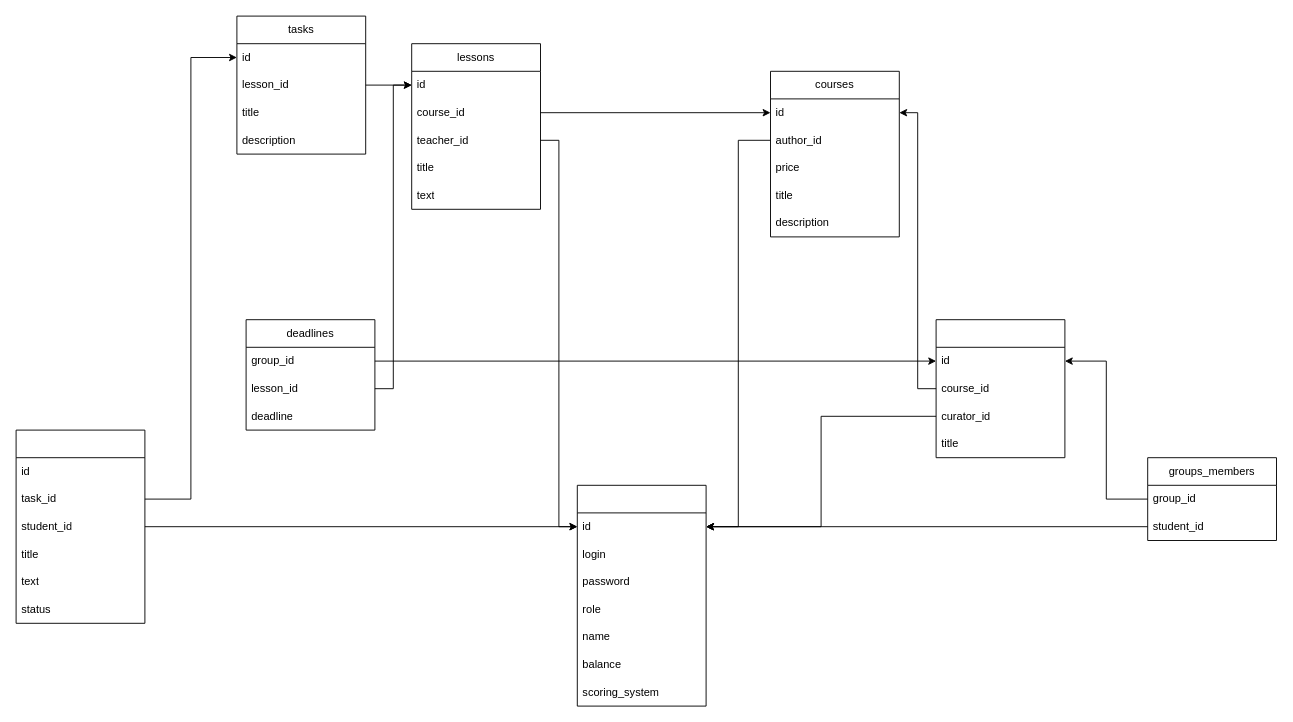
This 1293x722 diagram has some shape labels left out. The shapes that lost their labels are listed below. From the top down, each one's box as (x1, y1, x2, y2) in pixels, then its label:
(935, 319, 1065, 458): groups
(15, 429, 145, 623): hometasks
(576, 484, 706, 706): users
